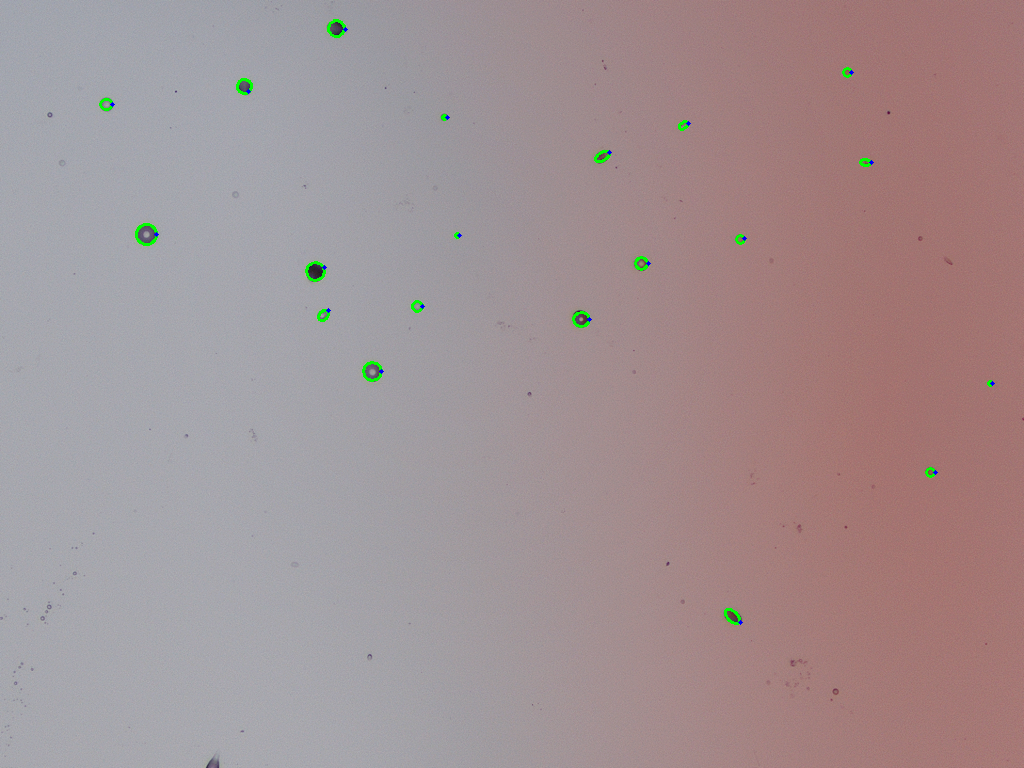circle: (135, 223, 156, 244), (363, 362, 381, 381), (573, 311, 589, 327), (634, 256, 648, 270), (100, 98, 112, 110), (412, 300, 422, 311), (735, 234, 744, 243), (926, 467, 935, 476), (843, 67, 851, 76), (441, 114, 447, 120), (987, 380, 992, 385), (455, 232, 459, 237)
ellipse: (326, 20, 345, 35), (723, 608, 741, 623), (859, 158, 871, 165)
